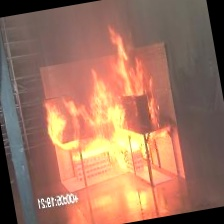fire: (15, 13, 196, 211)
